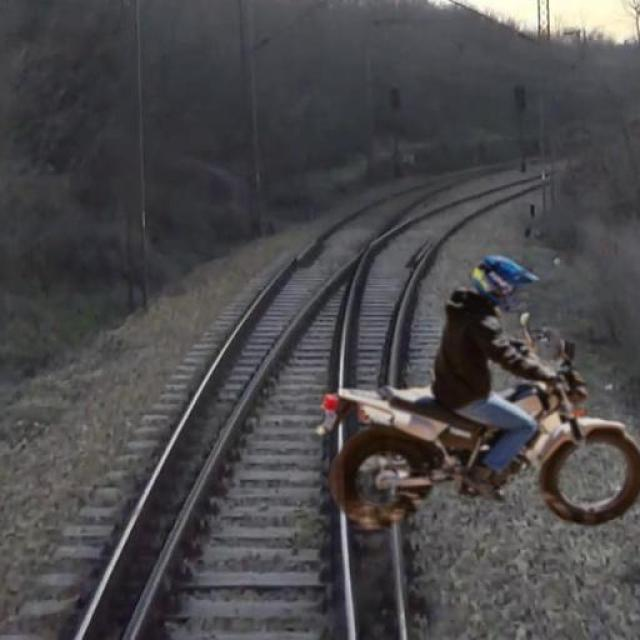vehicle: (307, 312, 636, 534)
